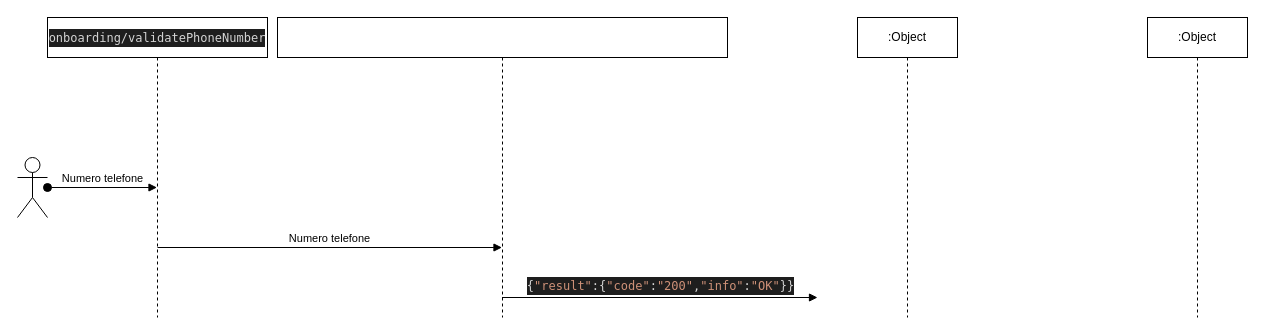
Image size: 1265x335. Some labels were removed from this diagram. The shapes that lost their labels are listed below. From the top down, each one's box as (x1, y1, x2, y2) in pixels, then its label:
(16, 156, 48, 218): Actor
(276, 16, 728, 318): http://srflta01-wls-1:9073/integration/validatePhoneNumber
